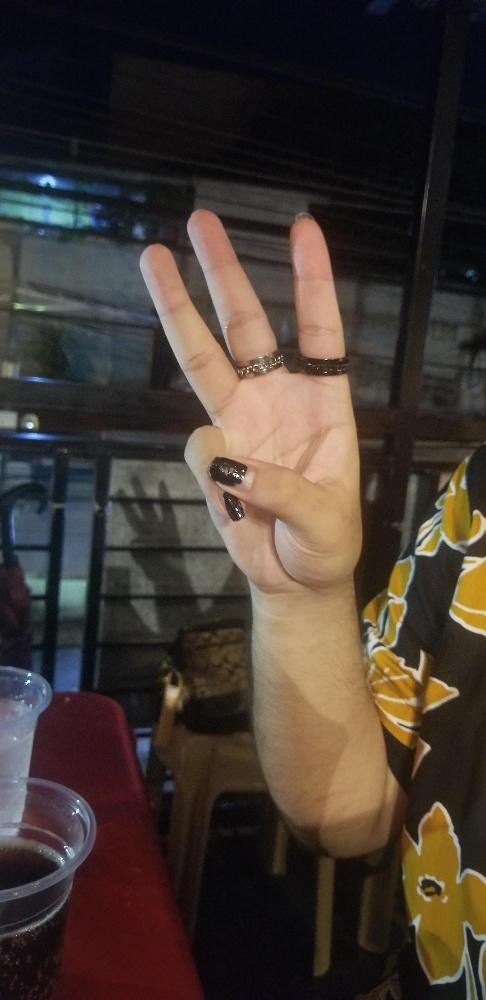w: (131, 208, 362, 581)
